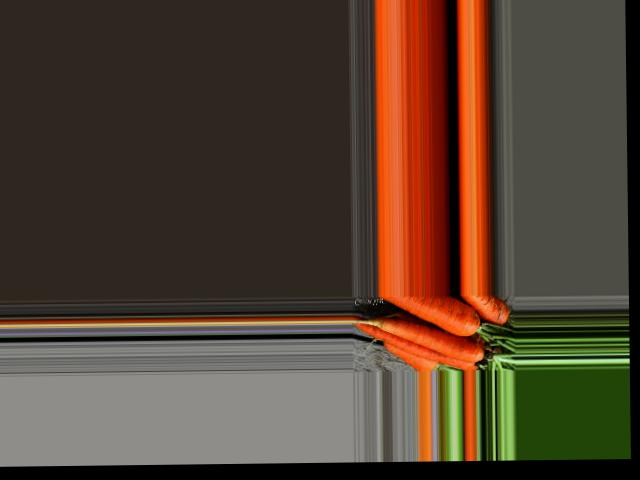carrot: (449, 294, 489, 325)
